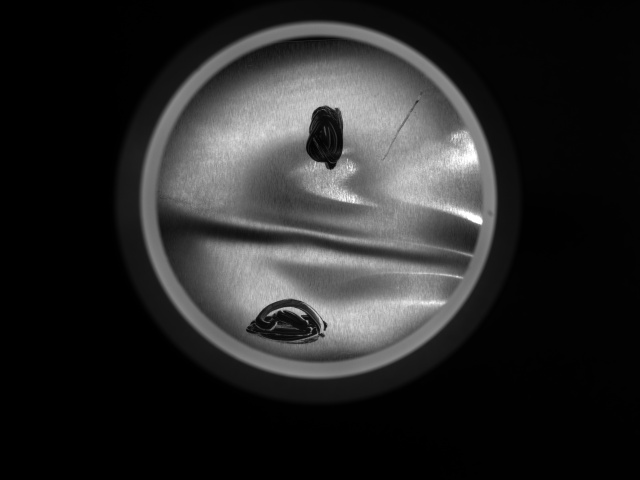ca_shang: (376, 90, 425, 162)
zang_wu: (241, 293, 331, 343), (302, 105, 348, 172)
zhe_zhou: (195, 73, 440, 329)
